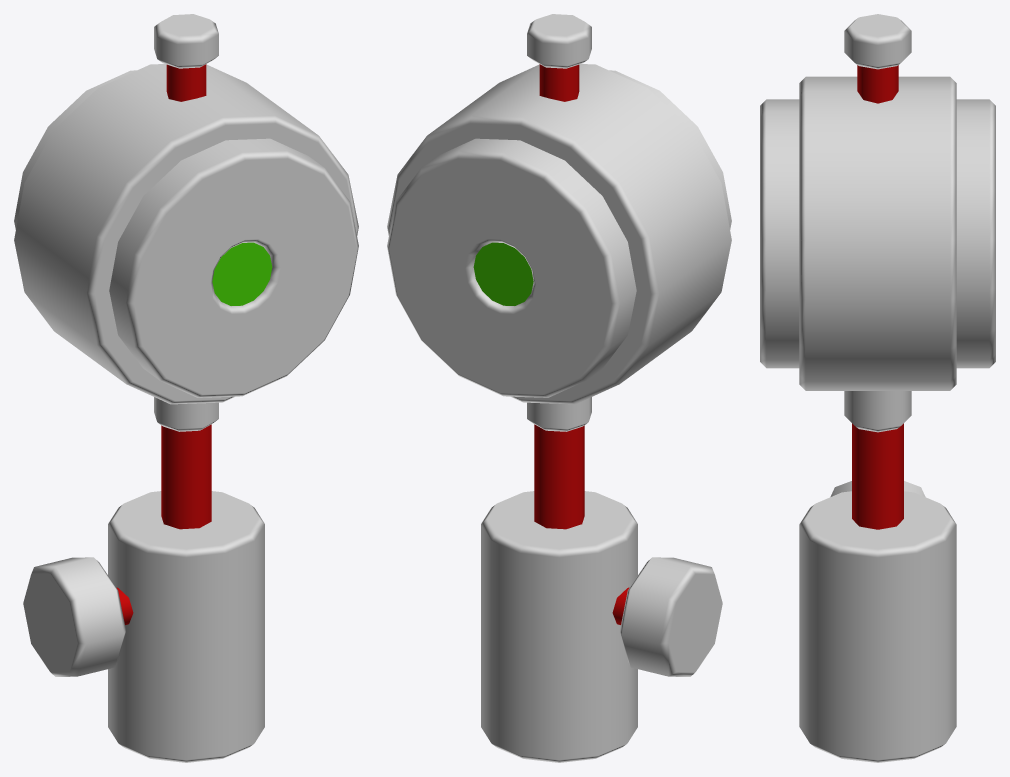
Rendered from Optic01b.fbx.
3 views of the same model, side by side, from view 1: azimuth 30°, elevation 25°; view 2: azimuth 150°, elevation 25°; view 3: azimuth 270°, elevation 25° (orthographic).
Visible parts, largest first — view 1: Optic01b; view 2: Optic01b; view 3: Optic01b.
Part boxes in pixels (<box>): Optic01b: <box>14,14,358,762</box>; Optic01b: <box>387,14,731,762</box>; Optic01b: <box>760,14,995,762</box>.
Size of the model in its own units: 5 by 3.75 by 12.41.
